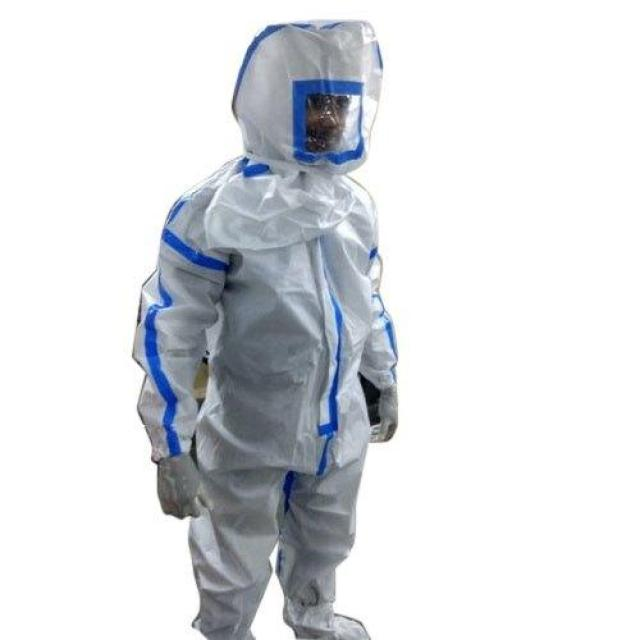Coverall: (127, 14, 412, 639)
Gloves: (155, 453, 212, 520), (373, 388, 398, 447)
